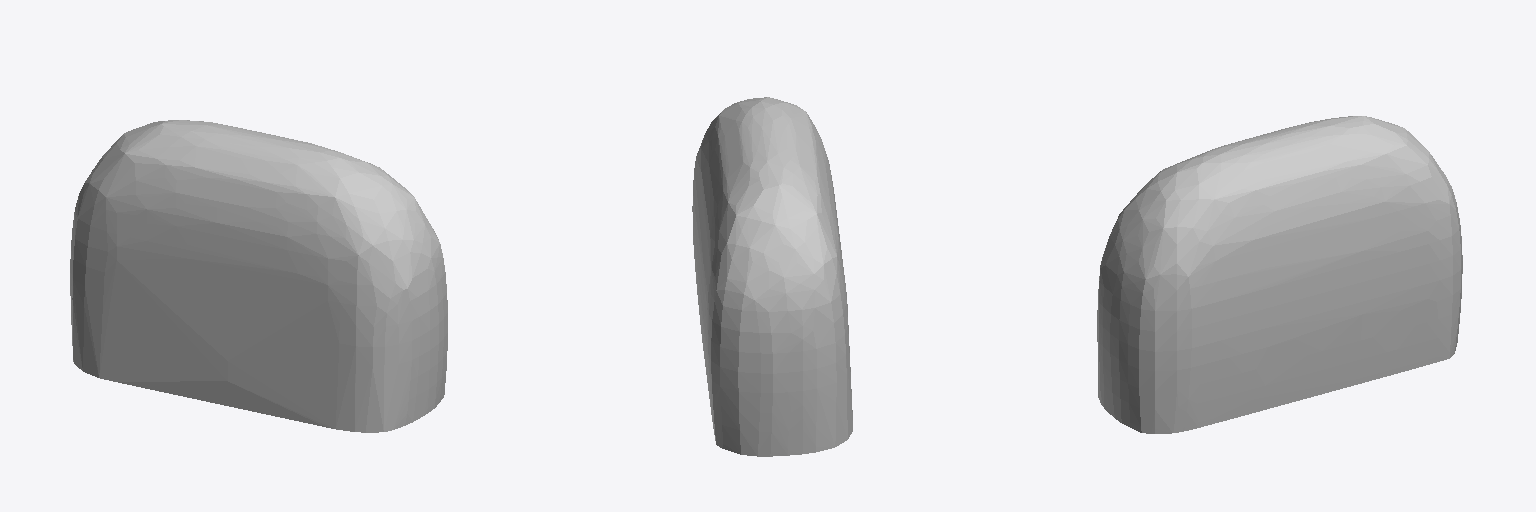
The model's file is sofa_collision_1.obj.
The picture shows the model from 3 angles: view 1: azimuth 30°, elevation 25°; view 2: azimuth 150°, elevation 25°; view 3: azimuth 270°, elevation 25°; orthographic projection.
Bounding box in the file's own units: 125 × 113 × 157.